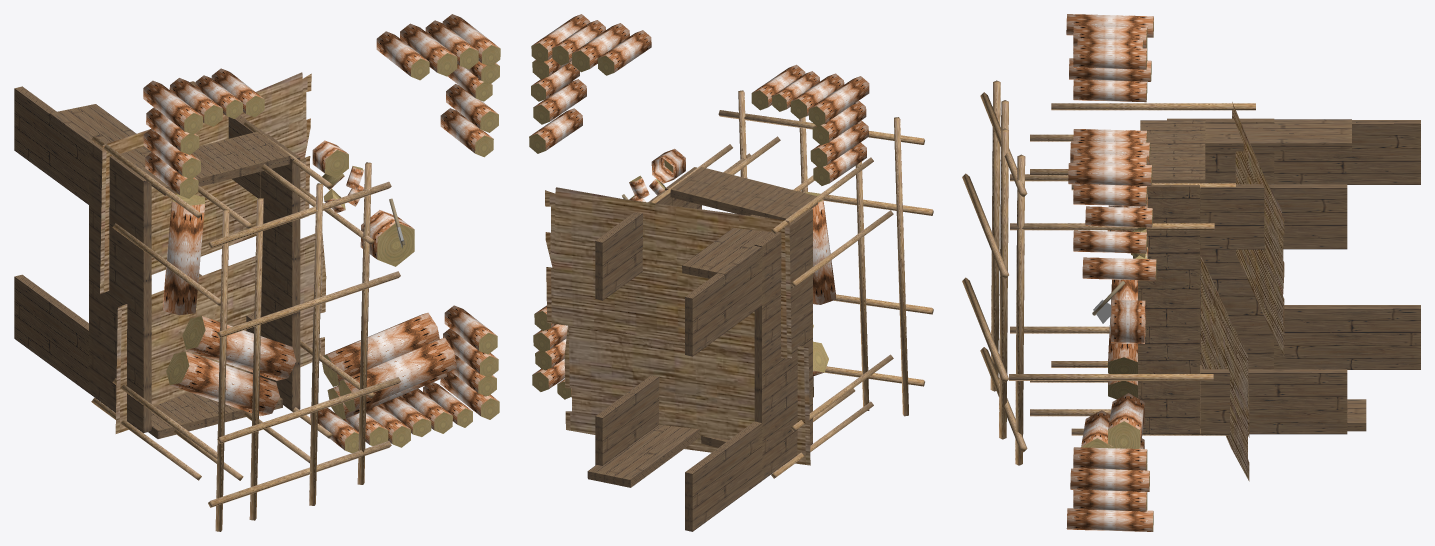
Rendered from lumbercamp_000004.obj.
3 renders of one model, left to right at view 1: azimuth 30°, elevation 25°; view 2: azimuth 150°, elevation 25°; view 3: azimuth 270°, elevation 25°, orthographic. The views are drawn at different scales.
Parts seen in each view (by area): view 1: Cube, Cube.001, Cube.002, Cube.007_Cube.010, Cube.004_Cube.007, Cube.003_Cube.006, Cylinder.009_Cylinder.013, Cylinder.007_Cylinder.011, Cylinder.008_Cylinder.012, Cube.011_Cube.014, Cylinder.003_Cylinder.004, Cylinder.001_Cylinder.002 (+42 smaller); view 2: Cube.001, Cube.002, Cube, Cube.004_Cube.007, Cube.003_Cube.006, Cube.011_Cube.014, Cube.005_Cube.008, Cube.009_Cube.012, Cube.006_Cube.009, Cube.010_Cube.013, Cylinder.050_Cylinder.080, Cylinder.007_Cylinder.011 (+28 smaller); view 3: Cube.007_Cube.010, Cube.004_Cube.007, Cube.006_Cube.009, Cube.005_Cube.008, Cube.003_Cube.006, Cube, Cube.001, Cube.002, Cube.010_Cube.013, Cube.011_Cube.014, Cylinder.051_Cylinder.081, Cylinder.057_Cylinder.086 (+33 smaller).
Part boxes in pixels (left/top/right/bottom): Cube: left=89, top=140, right=151, bottom=432; Cube.001: left=100, top=72, right=311, bottom=293; Cube.002: left=115, top=231, right=326, bottom=433; Cube.007_Cube.010: left=260, top=134, right=300, bottom=410; Cube.004_Cube.007: left=14, top=274, right=88, bottom=392; Cube.003_Cube.006: left=14, top=86, right=88, bottom=204; Cylinder.009_Cylinder.013: left=166, top=351, right=279, bottom=416; Cylinder.007_Cylinder.011: left=163, top=194, right=205, bottom=315; Cylinder.008_Cylinder.012: left=182, top=316, right=296, bottom=380; Cube.011_Cube.014: left=133, top=131, right=290, bottom=195; Cylinder.003_Cylinder.004: left=338, top=337, right=456, bottom=411; Cylinder.001_Cylinder.002: left=322, top=312, right=439, bottom=386; Cube.001: left=545, top=187, right=791, bottom=359; Cube.002: left=564, top=326, right=810, bottom=465; Cube: left=754, top=208, right=812, bottom=480; Cube.004_Cube.007: left=685, top=421, right=762, bottom=531; Cube.003_Cube.006: left=685, top=248, right=762, bottom=356; Cube.011_Cube.014: left=670, top=167, right=817, bottom=220; Cube.005_Cube.008: left=595, top=375, right=659, bottom=465; Cube.009_Cube.012: left=587, top=424, right=700, bottom=487; Cube.006_Cube.009: left=595, top=190, right=672, bottom=300; Cube.010_Cube.013: left=682, top=214, right=794, bottom=281; Cylinder.050_Cylinder.080: left=894, top=117, right=908, bottom=416; Cylinder.007_Cylinder.011: left=805, top=192, right=835, bottom=304; Cube.007_Cube.010: left=1138, top=182, right=1199, bottom=433; Cube.004_Cube.007: left=1274, top=305, right=1420, bottom=369; Cube.006_Cube.009: left=1200, top=184, right=1347, bottom=249; Cube.005_Cube.008: left=1200, top=369, right=1347, bottom=434; Cube.003_Cube.006: left=1274, top=120, right=1420, bottom=184; Cube: left=1167, top=118, right=1274, bottom=369; Cube.001: left=1232, top=102, right=1284, bottom=356; Cube.002: left=1200, top=254, right=1249, bottom=481; Cube.010_Cube.013: left=1205, top=119, right=1351, bottom=151; Cube.011_Cube.014: left=1140, top=120, right=1205, bottom=183; Cylinder.051_Cylinder.081: left=1015, top=154, right=1025, bottom=465; Cylinder.057_Cylinder.086: left=999, top=128, right=1008, bottom=439.
Bounding box in the file's own units: 6.07 × 6.69 × 7.26.
